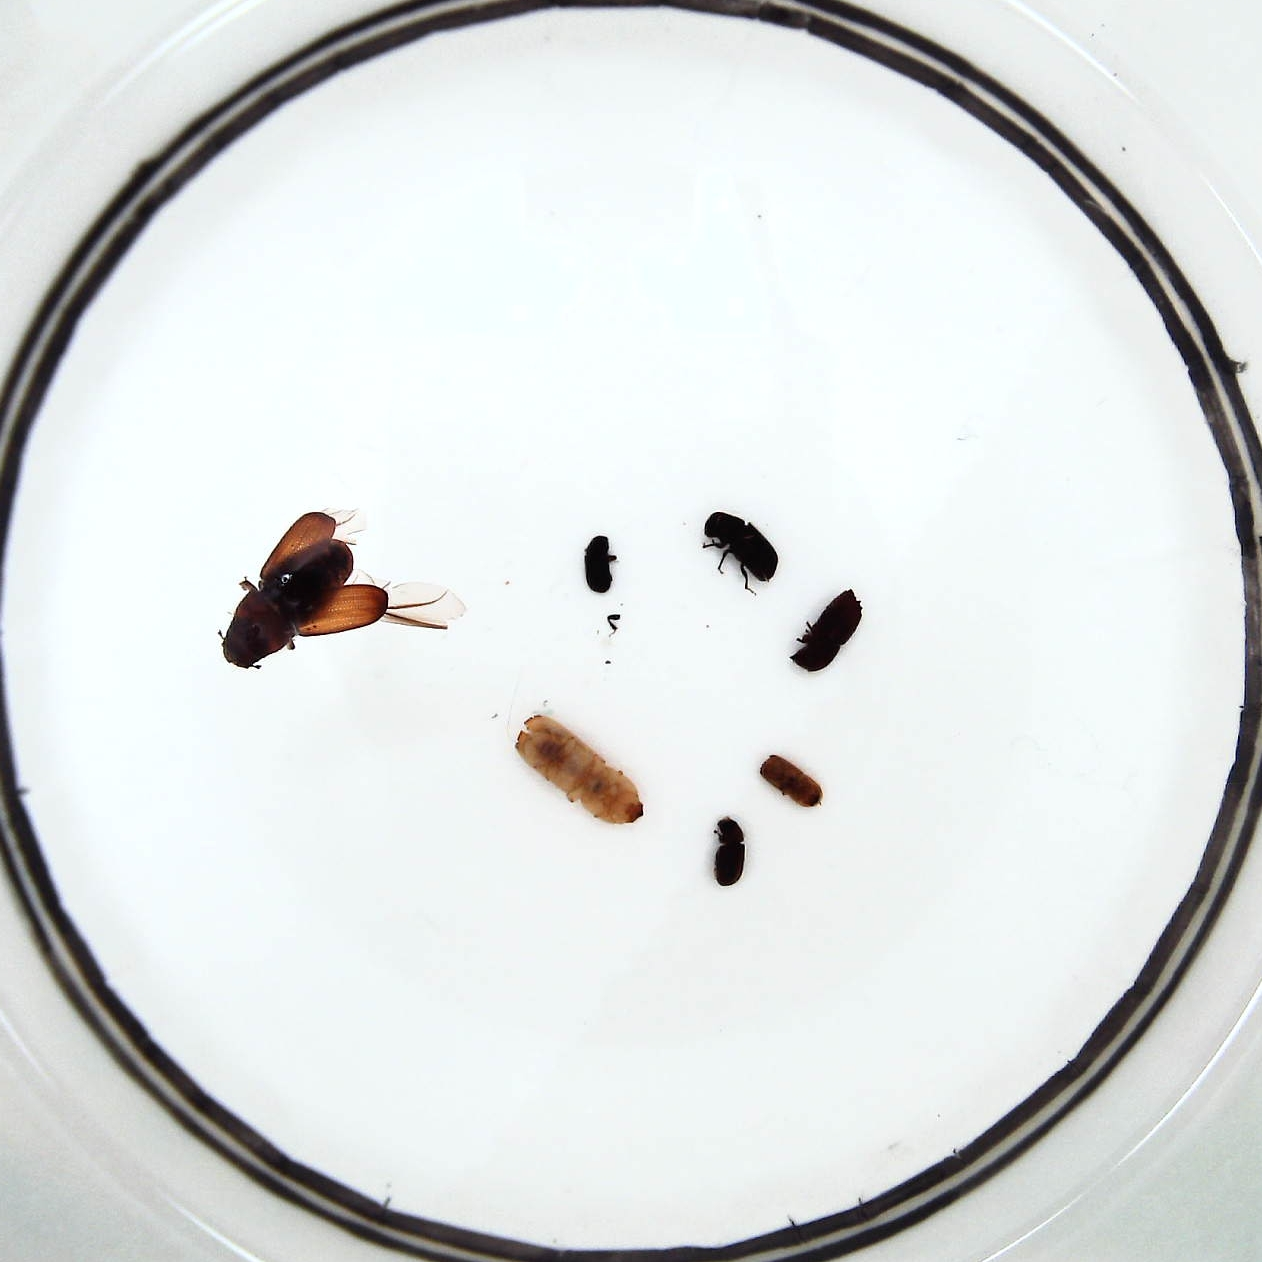Boerner: (508, 715, 646, 832)
Leconte: (221, 517, 398, 673)
Linnaeus: (790, 588, 864, 673)
acuminatus: (758, 754, 821, 810)
armandi: (699, 505, 775, 581)
coleoptera: (712, 810, 741, 894), (580, 529, 616, 595)
